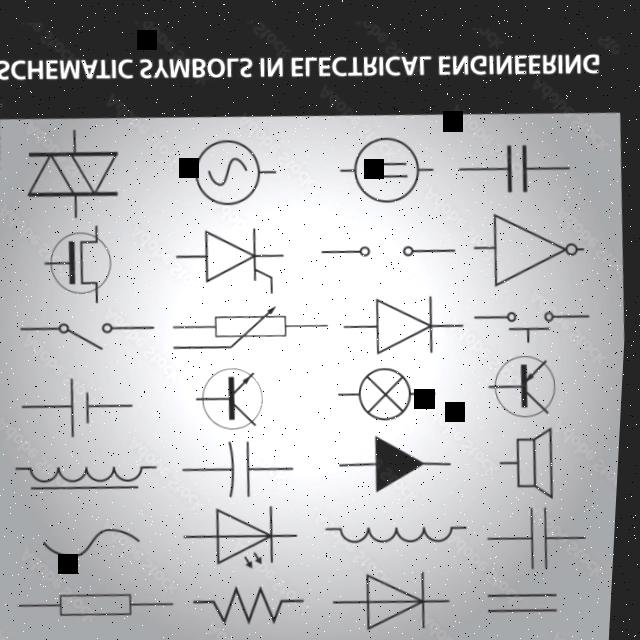capacitor: (476, 112, 553, 200), (508, 486, 581, 571), (206, 430, 276, 503)
diode: (476, 193, 589, 287), (186, 205, 290, 304), (14, 129, 132, 213), (352, 550, 445, 640), (359, 271, 452, 359), (357, 416, 437, 498), (203, 494, 287, 572)
inductor: (23, 441, 156, 509), (326, 502, 476, 553)
mosfet: (43, 218, 121, 299)
resistor: (189, 288, 310, 361), (210, 566, 303, 637), (347, 352, 431, 425), (52, 574, 149, 623)
source: (183, 123, 278, 211), (342, 216, 434, 280), (52, 366, 115, 444)
switch: (484, 286, 576, 354), (42, 305, 137, 354)
transistor: (482, 337, 572, 416), (191, 355, 273, 437)
